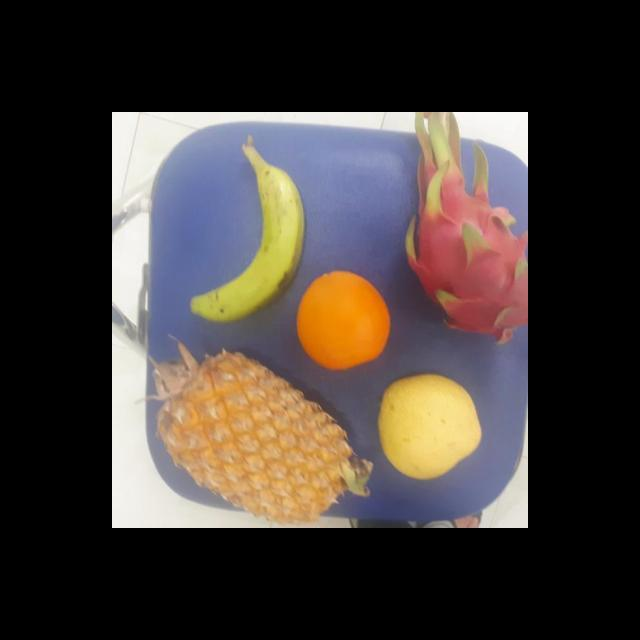banana: (202, 150, 302, 318)
orange: (293, 266, 395, 372)
pear: (374, 375, 482, 479)
pineapple: (148, 350, 352, 524)
pitaya: (400, 155, 528, 348)
